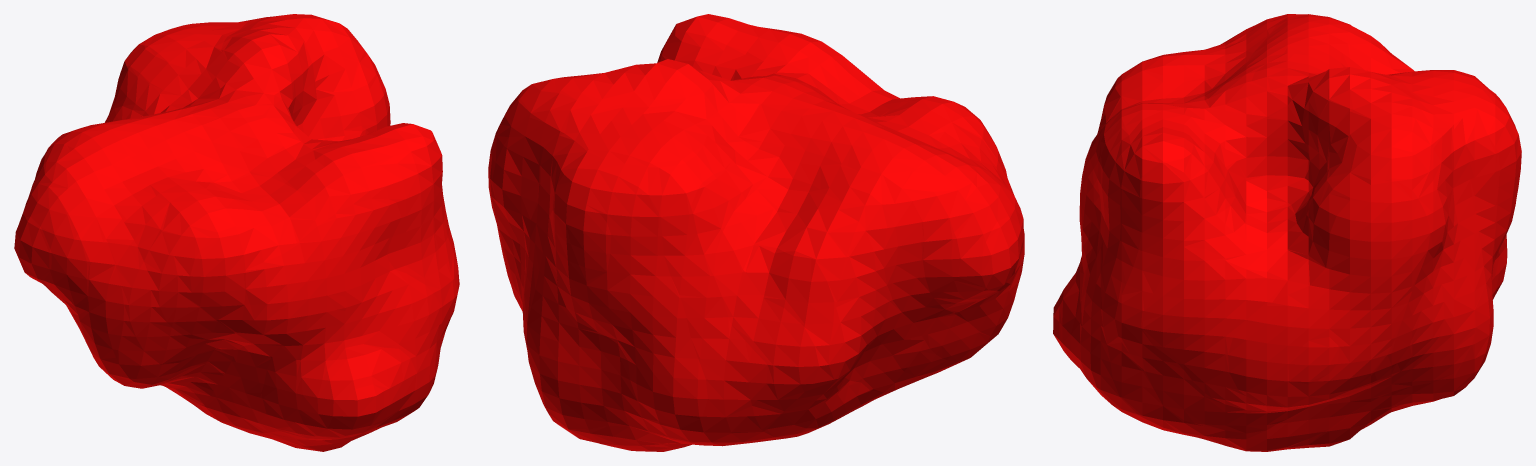
File: folK_coarse.dae
The picture shows the model from 3 angles, left to right: view 1: azimuth 30°, elevation 25°; view 2: azimuth 150°, elevation 25°; view 3: azimuth 270°, elevation 25°; orthographic projection. The views are drawn at different scales.
Parts seen in each view (by area): view 1: folK; view 2: folK; view 3: folK.
Boxes of the visible parts, left/top/right/bottom form: folK: left=14, top=14, right=459, bottom=451; folK: left=488, top=14, right=1024, bottom=451; folK: left=1053, top=14, right=1521, bottom=451.
Bounding box in the file's own units: 45.68 × 37.24 × 43.34.
